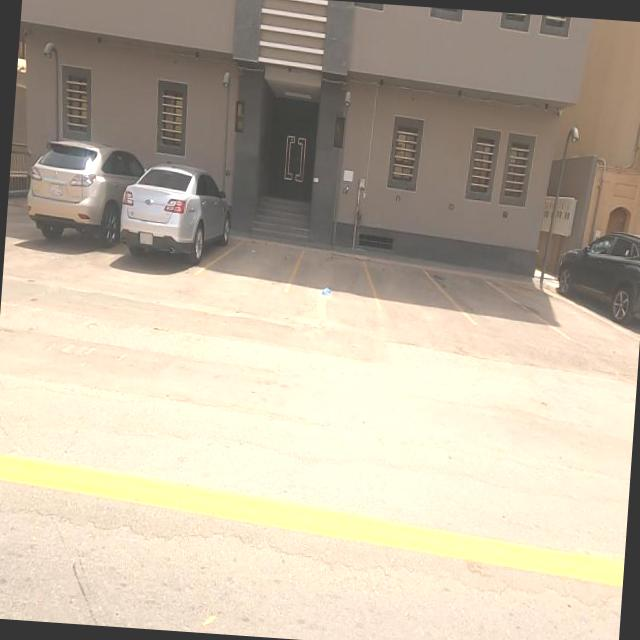debris: (298, 254, 348, 324)
